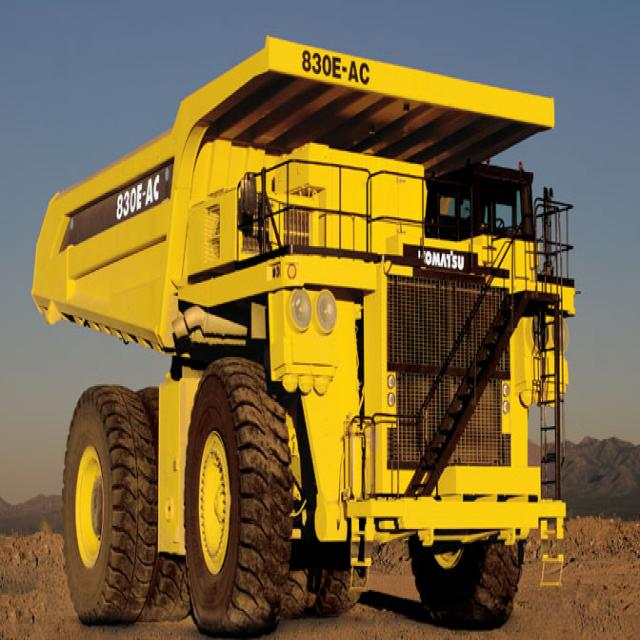dump_truck: (35, 33, 572, 630)
